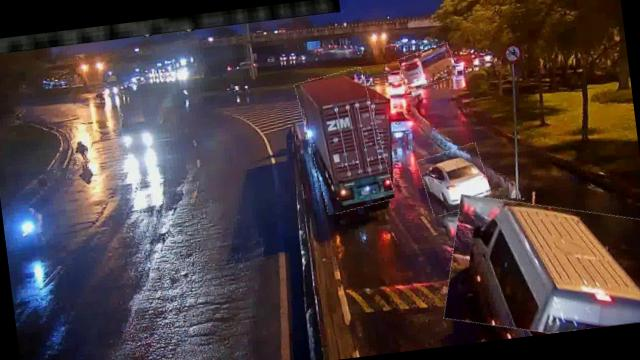Bike: (72, 136, 89, 166)
Bus: (437, 183, 640, 344), (398, 43, 457, 88)
Car: (418, 144, 490, 216), (388, 77, 413, 98)
Truck: (298, 67, 391, 214)
